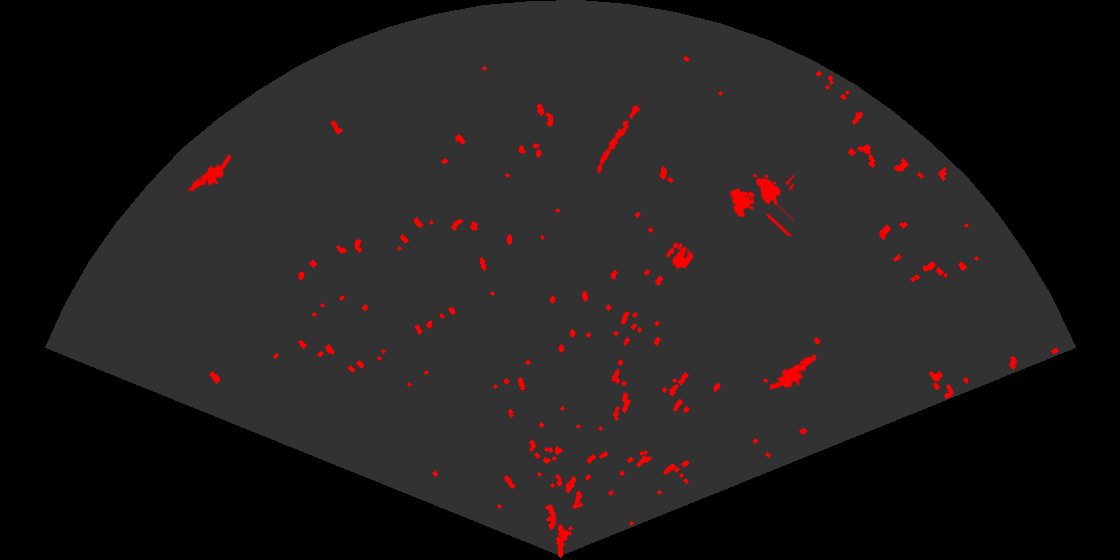ball: (665, 241, 695, 271)
cage: (728, 172, 794, 236)
chain: (595, 95, 647, 175)
frogman: (186, 155, 231, 197), (770, 353, 819, 391)
